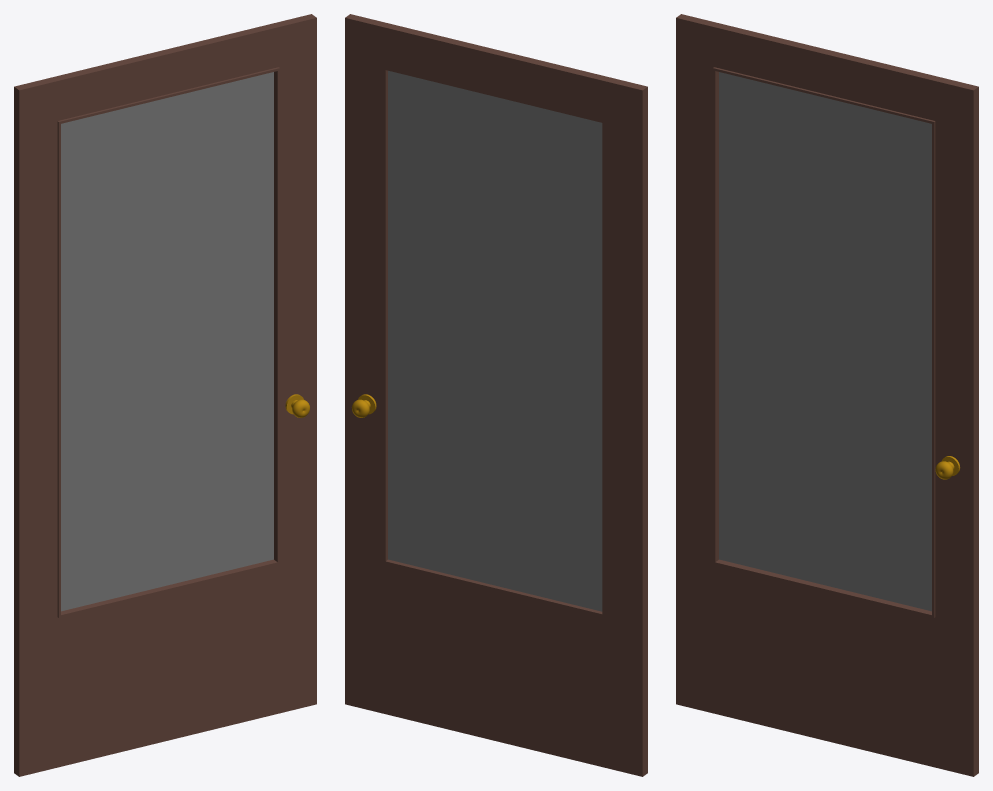
The model's file is d20-Voordeur.dae.
The picture shows the model from 3 angles, left to right: view 1: azimuth 30°, elevation 25°; view 2: azimuth 150°, elevation 25°; view 3: azimuth 330°, elevation 25°; orthographic projection.
Visible parts, largest first — view 1: mesh0%root%3%, mesh0%root%0%; view 2: mesh0%root%0%, mesh0%root%3%; view 3: mesh0%root%3%, mesh0%root%0%.
Boxes of the visible parts, <box> form: mesh0%root%3%: <box>14,14,316,776</box>; mesh0%root%0%: <box>61,72,273,611</box>; mesh0%root%0%: <box>388,70,602,611</box>; mesh0%root%3%: <box>345,14,647,776</box>; mesh0%root%3%: <box>676,14,978,776</box>; mesh0%root%0%: <box>719,72,931,611</box>.
Size of the model in its own units: 1.32 by 2.92 by 0.1893.
